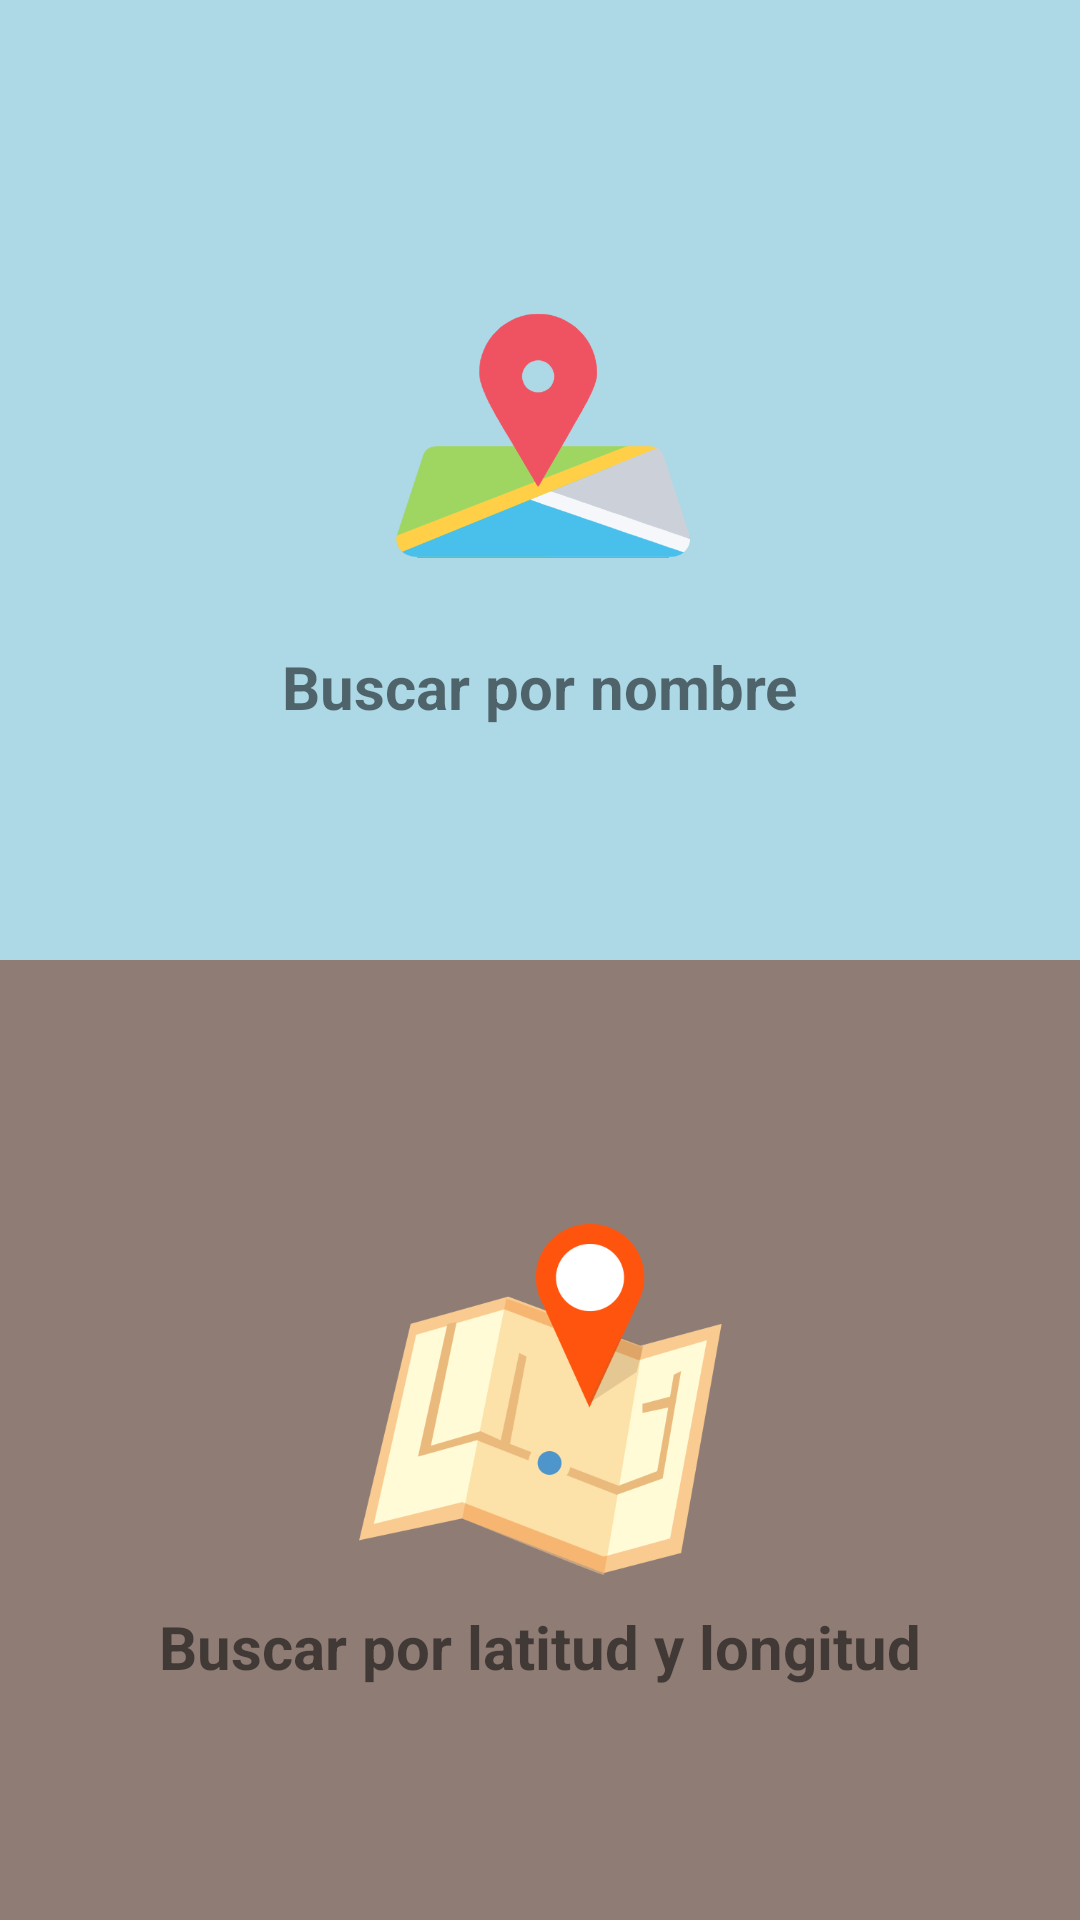

Named icons in this screenshot (1080 x 1920) and their centers, point (x, y):
if location: point (543, 436)
